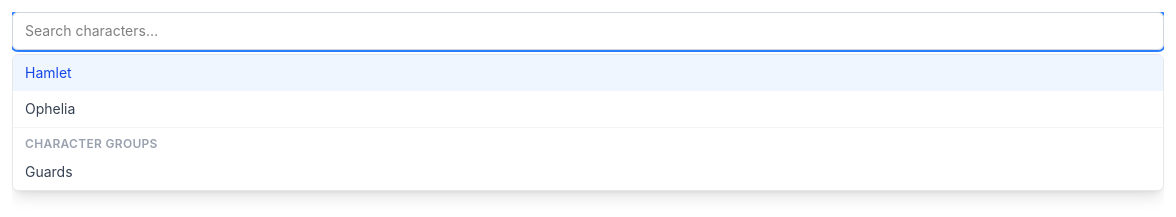
CharacterCombobox › shows "Add … as new character" option when query has no exact match
The image size is (1176, 217).
Type "Ghost" into the field with placeholder "Search characters…" at (588, 31), box [12,12,1164,50]
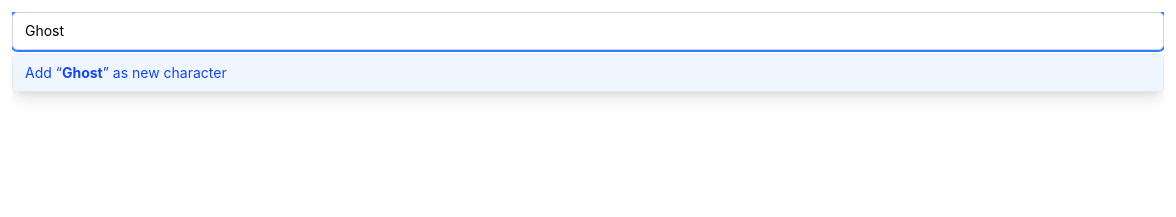
Expected: the list item is shown, [13,55,1163,91]
